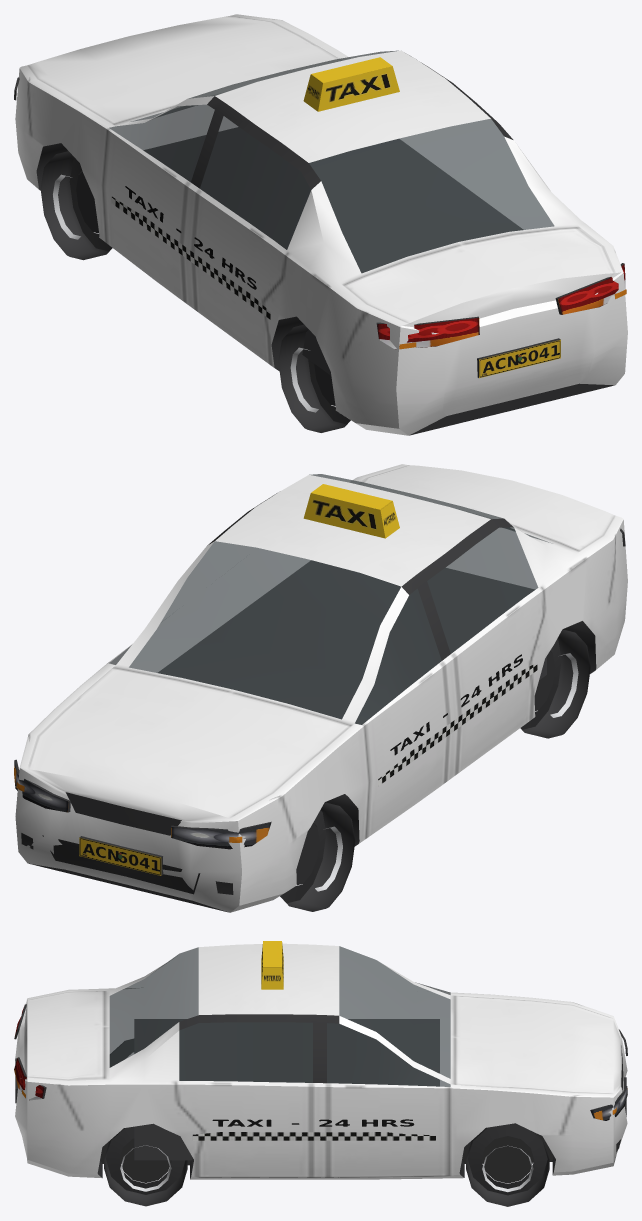
Rendered from taxi_lod1.glb.
3 renders of one model, top to bottom at view 1: azimuth 30°, elevation 25°; view 2: azimuth 150°, elevation 25°; view 3: azimuth 270°, elevation 25°, orthographic. The views are drawn at different scales.
Parts seen in each view (by area): view 1: body, wheel_fl_mesh, wheel_rl_mesh; view 2: body, wheel_fl_mesh, wheel_rl_mesh; view 3: body, wheel_fr_mesh, wheel_rr_mesh, wheel_rl_mesh.
Part boxes in pixels (x1,y1,x2,y2): body: [14, 14, 627, 435]; wheel_fl_mesh: [40, 151, 112, 260]; wheel_rl_mesh: [278, 324, 350, 432]; body: [14, 464, 627, 912]; wheel_fl_mesh: [280, 802, 355, 911]; wheel_rl_mesh: [520, 629, 590, 738]; body: [14, 941, 627, 1179]; wheel_fr_mesh: [466, 1123, 549, 1206]; wheel_rr_mesh: [104, 1126, 187, 1206]; wheel_rl_mesh: [110, 1039, 133, 1067].
Size of the model in its own units: 1.7 by 1.62 by 4.41.
Materials: 11 (6 with a texture image).
